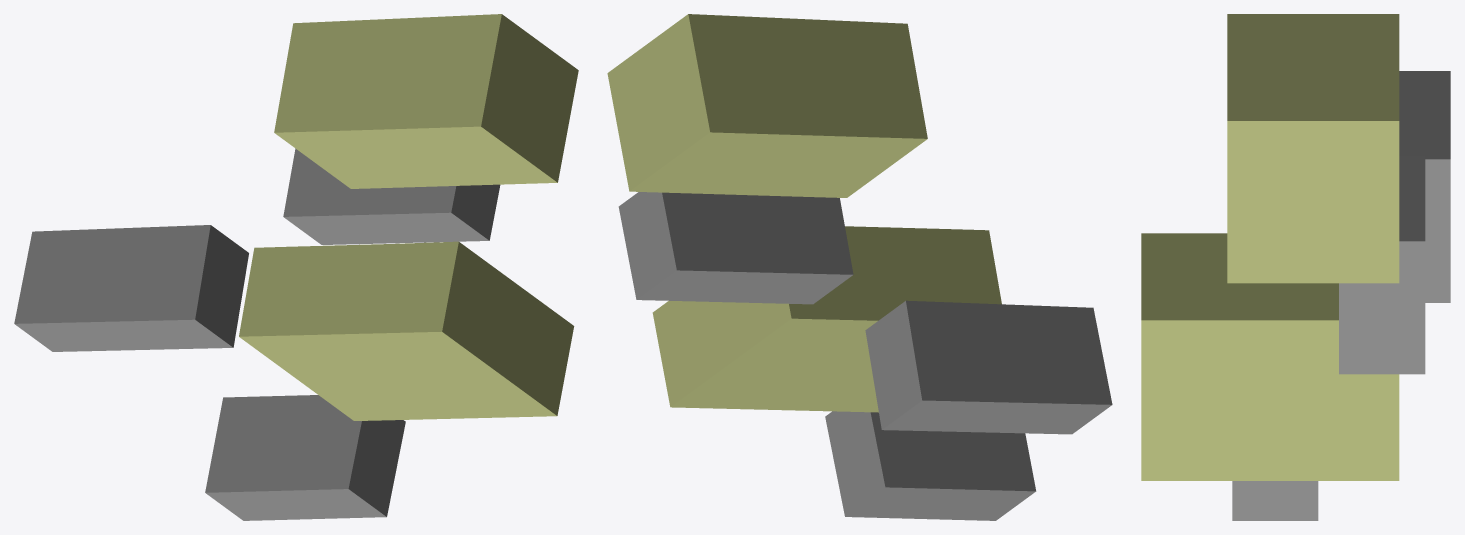
The picture shows the model from 3 angles, left to right: view 1: azimuth 30°, elevation 25°; view 2: azimuth 150°, elevation 25°; view 3: azimuth 270°, elevation 25°; orthographic projection. The views are drawn at different scales.
Parts seen in each view (by area): view 1: 0_1_2_0_3_3_2_0_1_2; view 2: 0_1_2_0_3_3_2_0_1_2; view 3: 0_1_2_0_3_3_2_0_1_2.
Part boxes in pixels (x1,y1,x2,y2): 0_1_2_0_3_3_2_0_1_2: (14,14,578,520); 0_1_2_0_3_3_2_0_1_2: (607,14,1112,520); 0_1_2_0_3_3_2_0_1_2: (1141,14,1450,520).
Bounding box in the file's own units: 20.94 × 19.11 × 10.79.
